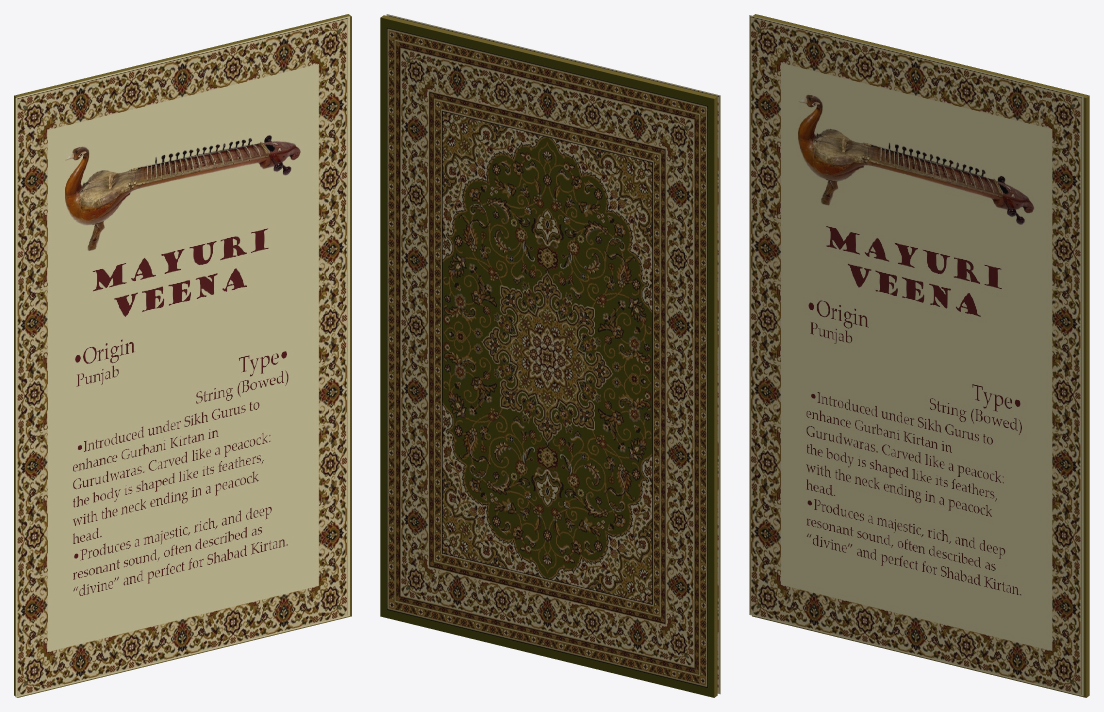
File: mayuriveenacard.glb
3 views of the same model, side by side, from view 1: azimuth 30°, elevation 25°; view 2: azimuth 150°, elevation 25°; view 3: azimuth 330°, elevation 25° (orthographic).
Parts seen in each view (by area): view 1: Plane.002; view 2: Plane.002; view 3: Plane.002.
Part boxes in pixels (x1=…): Plane.002: x1=14, y1=14, x2=351, y2=697; Plane.002: x1=380, y1=14, x2=720, y2=697; Plane.002: x1=749, y1=14, x2=1089, y2=697.
Bounding box in the file's own units: 0.0705 × 0.1203 × 0.00142.
Materials: 3 (2 with a texture image).
